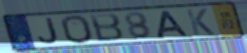8: (123, 11, 153, 40)
A: (156, 9, 191, 39)
B: (88, 12, 126, 43)
J: (37, 17, 60, 45)
K: (185, 8, 217, 36)
O: (59, 14, 96, 45)
